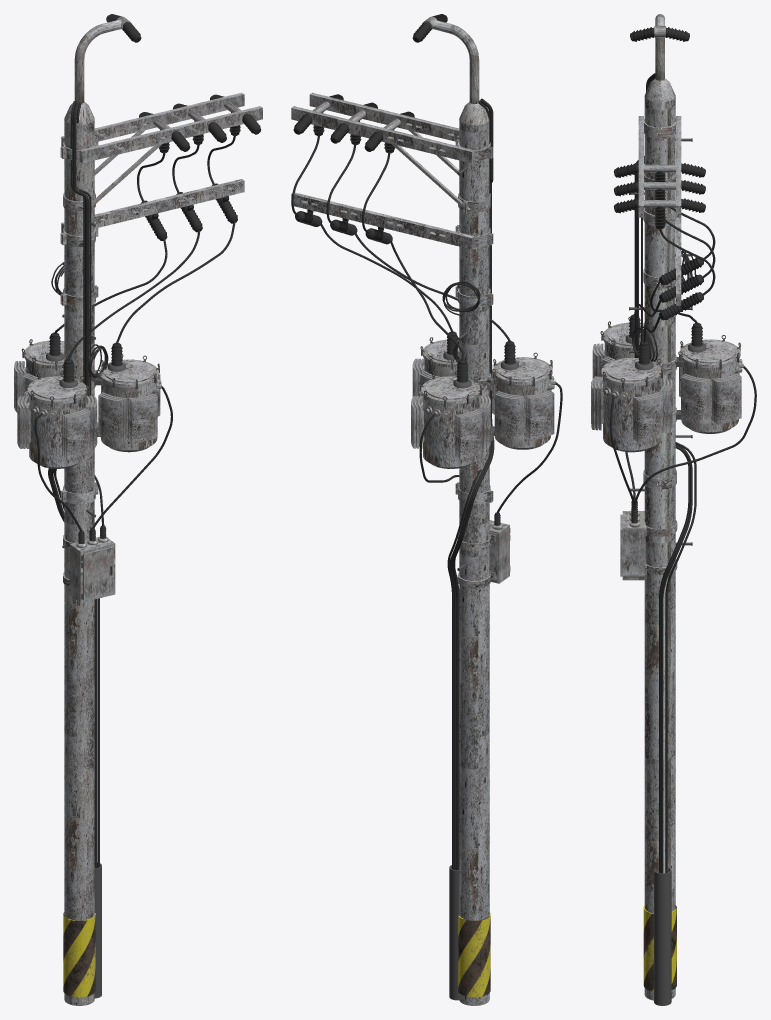
File: 高压电杆.glb
3 views of the same model, side by side, from view 1: azimuth 30°, elevation 25°; view 2: azimuth 150°, elevation 25°; view 3: azimuth 270°, elevation 25° (orthographic). The views are drawn at different scales.
Visible parts, largest first — view 1: Main pole, transformer Protector, transformer.001, Ruber cover, transformer.003, Wire.004, support, transformer.002, Support, Fixture, support.001, Wire.002 (+4 smaller); view 2: Main pole, transformer Protector, transformer, Fixture, Support, Ruber cover, Wire.004, support.001, transformer.001, support, Wire Cover, Wire.003 (+4 smaller); view 3: Main pole, transformer Protector, transformer.002, transformer, Wire Cover, Fixture, Wire.002, transformer.003, Wire.004, Wire.003, Ruber cover, Plug.001 (+9 smaller).
Part boxes in pixels (left/top/right/bottom): Main pole: left=64, top=102, right=94, bottom=1005; transformer Protector: left=14, top=361, right=160, bottom=458; transformer.001: left=27, top=376, right=86, bottom=468; Ruber cover: left=63, top=912, right=95, bottom=997; transformer.003: left=70, top=536, right=115, bottom=602; Wire.004: left=50, top=102, right=97, bottom=868; support: left=79, top=106, right=262, bottom=163; transformer.002: left=99, top=359, right=158, bottom=452; Support: left=61, top=179, right=244, bottom=232; Fixture: left=60, top=138, right=98, bottom=586; support.001: left=61, top=92, right=244, bottom=146; Wire.002: left=54, top=102, right=99, bottom=867; Main pole: left=459, top=102, right=489, bottom=1005; transformer Protector: left=411, top=358, right=554, bottom=458; transformer: left=421, top=376, right=480, bottom=468; Fixture: left=455, top=138, right=495, bottom=588; Support: left=291, top=192, right=474, bottom=249; Ruber cover: left=458, top=912, right=490, bottom=997; Wire.004: left=451, top=98, right=494, bottom=870; support.001: left=291, top=106, right=474, bottom=163; transformer.001: left=493, top=357, right=552, bottom=449; support: left=309, top=92, right=459, bottom=141; Wire Cover: left=449, top=865, right=459, bottom=1000; Wire.003: left=449, top=101, right=490, bottom=870; Main pole: left=644, top=78, right=675, bottom=1000; transformer Protector: left=591, top=343, right=741, bottom=442; transformer.002: left=601, top=357, right=661, bottom=452; transformer: left=679, top=339, right=740, bottom=433; Wire Cover: left=654, top=868, right=671, bottom=1005; Fixture: left=643, top=119, right=677, bottom=574; Wire.002: left=636, top=77, right=692, bottom=873; transformer.003: left=620, top=511, right=645, bottom=580; Wire.004: left=634, top=73, right=691, bottom=872; Wire.003: left=641, top=162, right=696, bottom=872; Ruber cover: left=643, top=905, right=676, bottom=991; Plug.001: left=629, top=164, right=675, bottom=527.
Bounding box in the file's own units: 9.94 × 38 × 5.76.
Materials: 4 (2 with a texture image).
